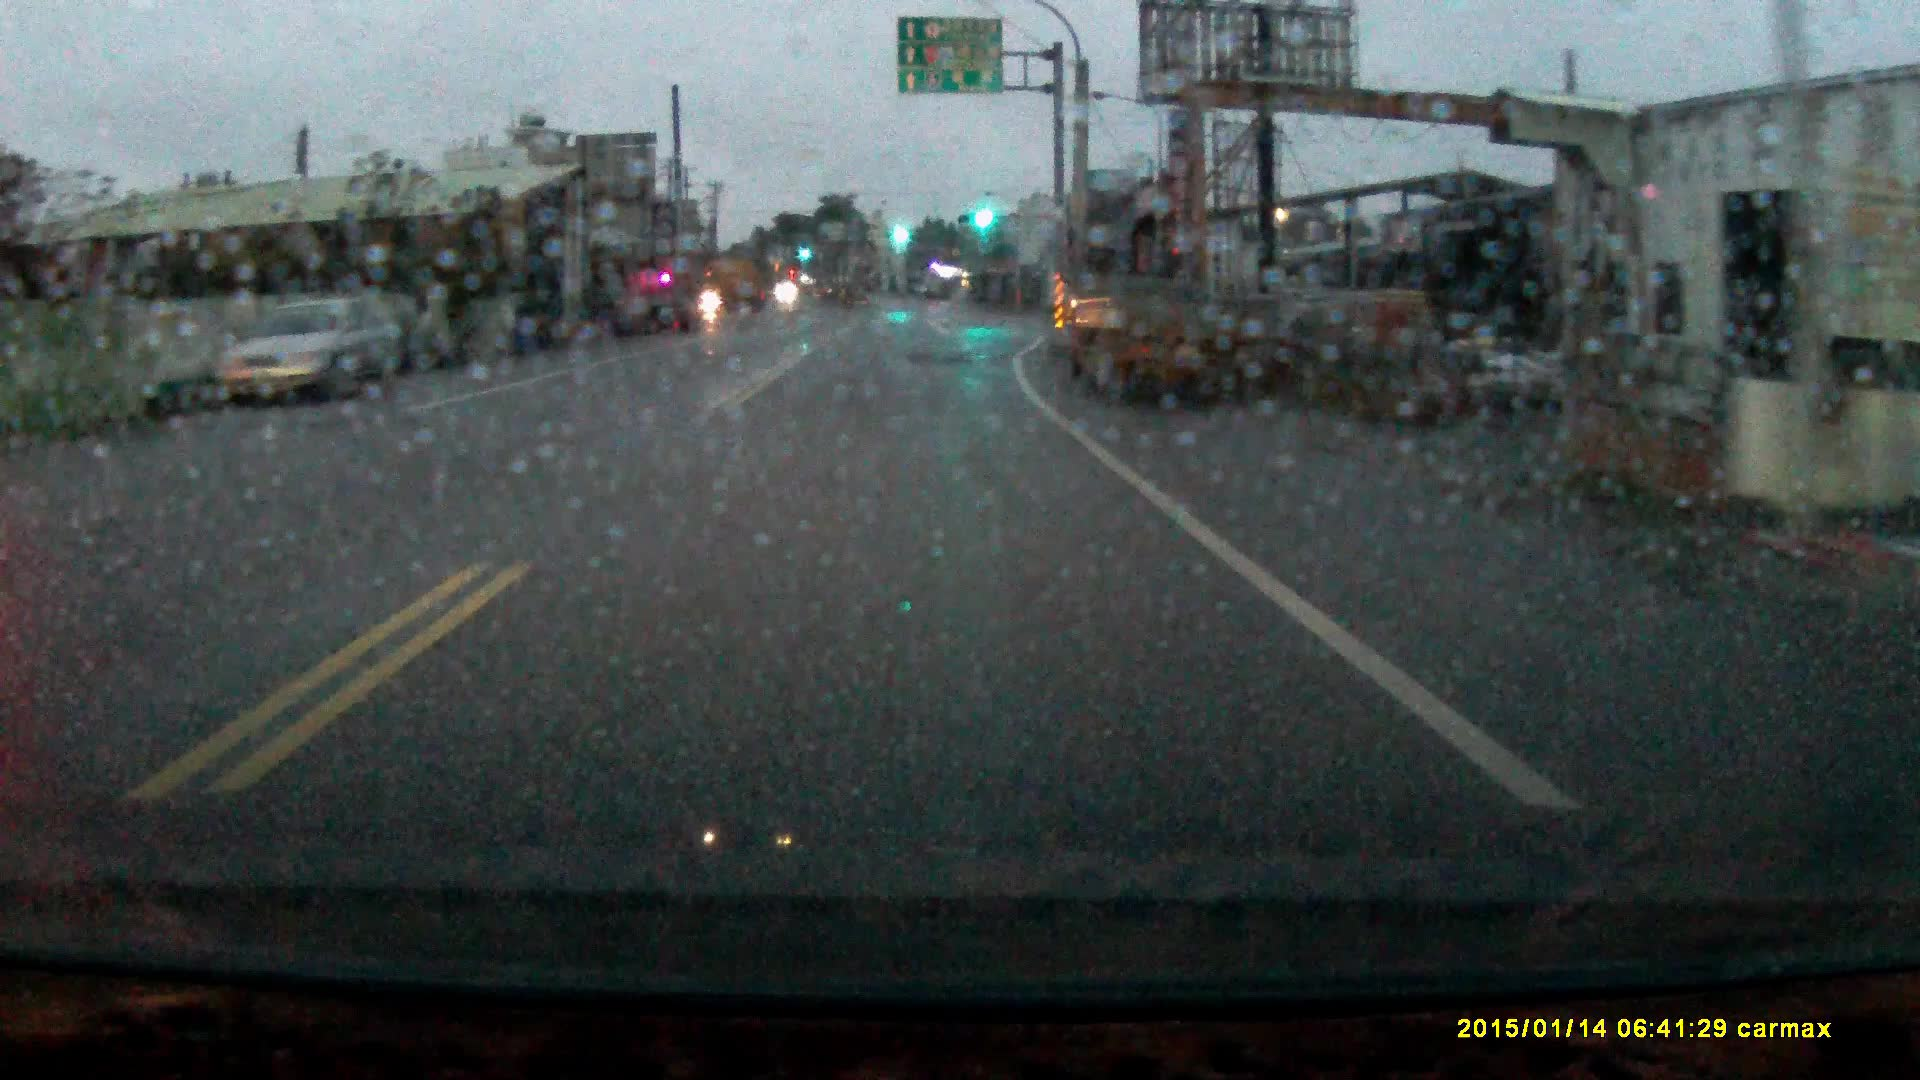vehicle: (1054, 240, 1232, 413), (211, 299, 402, 409), (694, 262, 769, 320)
